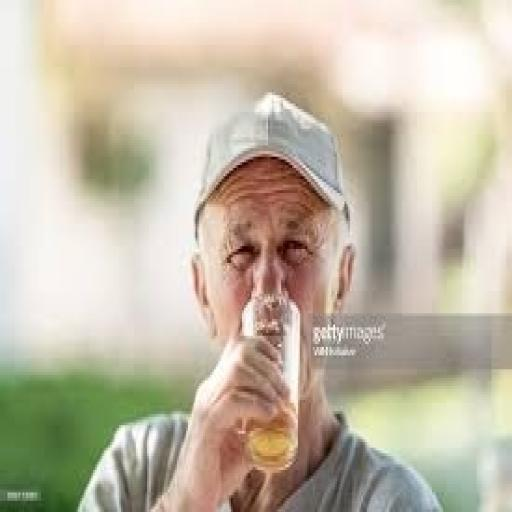drinking: (238, 291, 300, 470)
